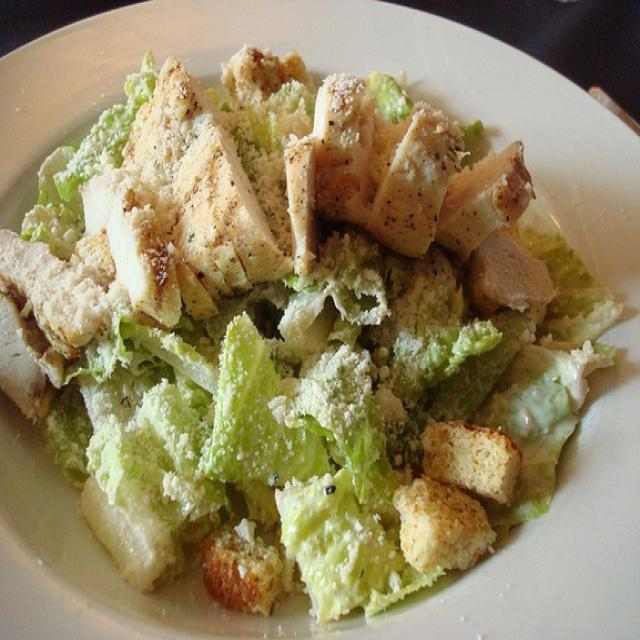蔬菜料理: (10, 37, 609, 607)
